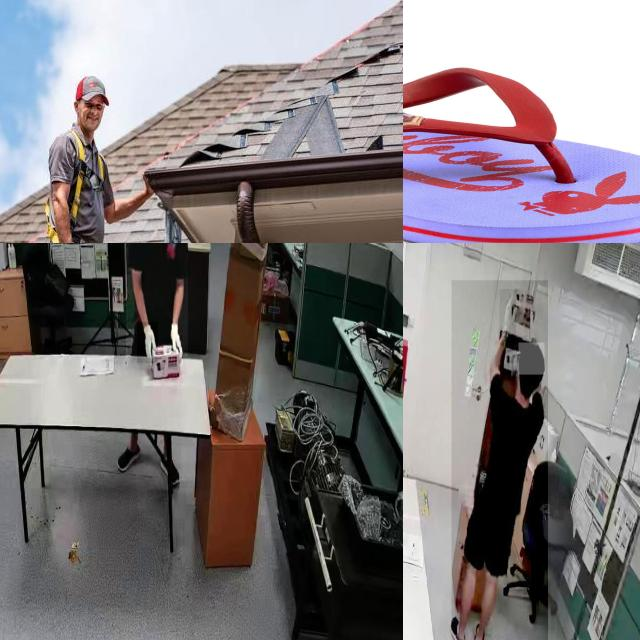Harness: (43, 126, 106, 243)
Sandals: (403, 66, 640, 243)
hand_glove: (499, 289, 516, 347), (137, 322, 159, 364), (168, 316, 184, 354)
head_nohelmet: (519, 342, 545, 376)
person: (451, 280, 548, 640), (125, 243, 188, 357)
shoes: (159, 450, 183, 490), (116, 441, 142, 475), (449, 608, 467, 640), (469, 620, 490, 640)
